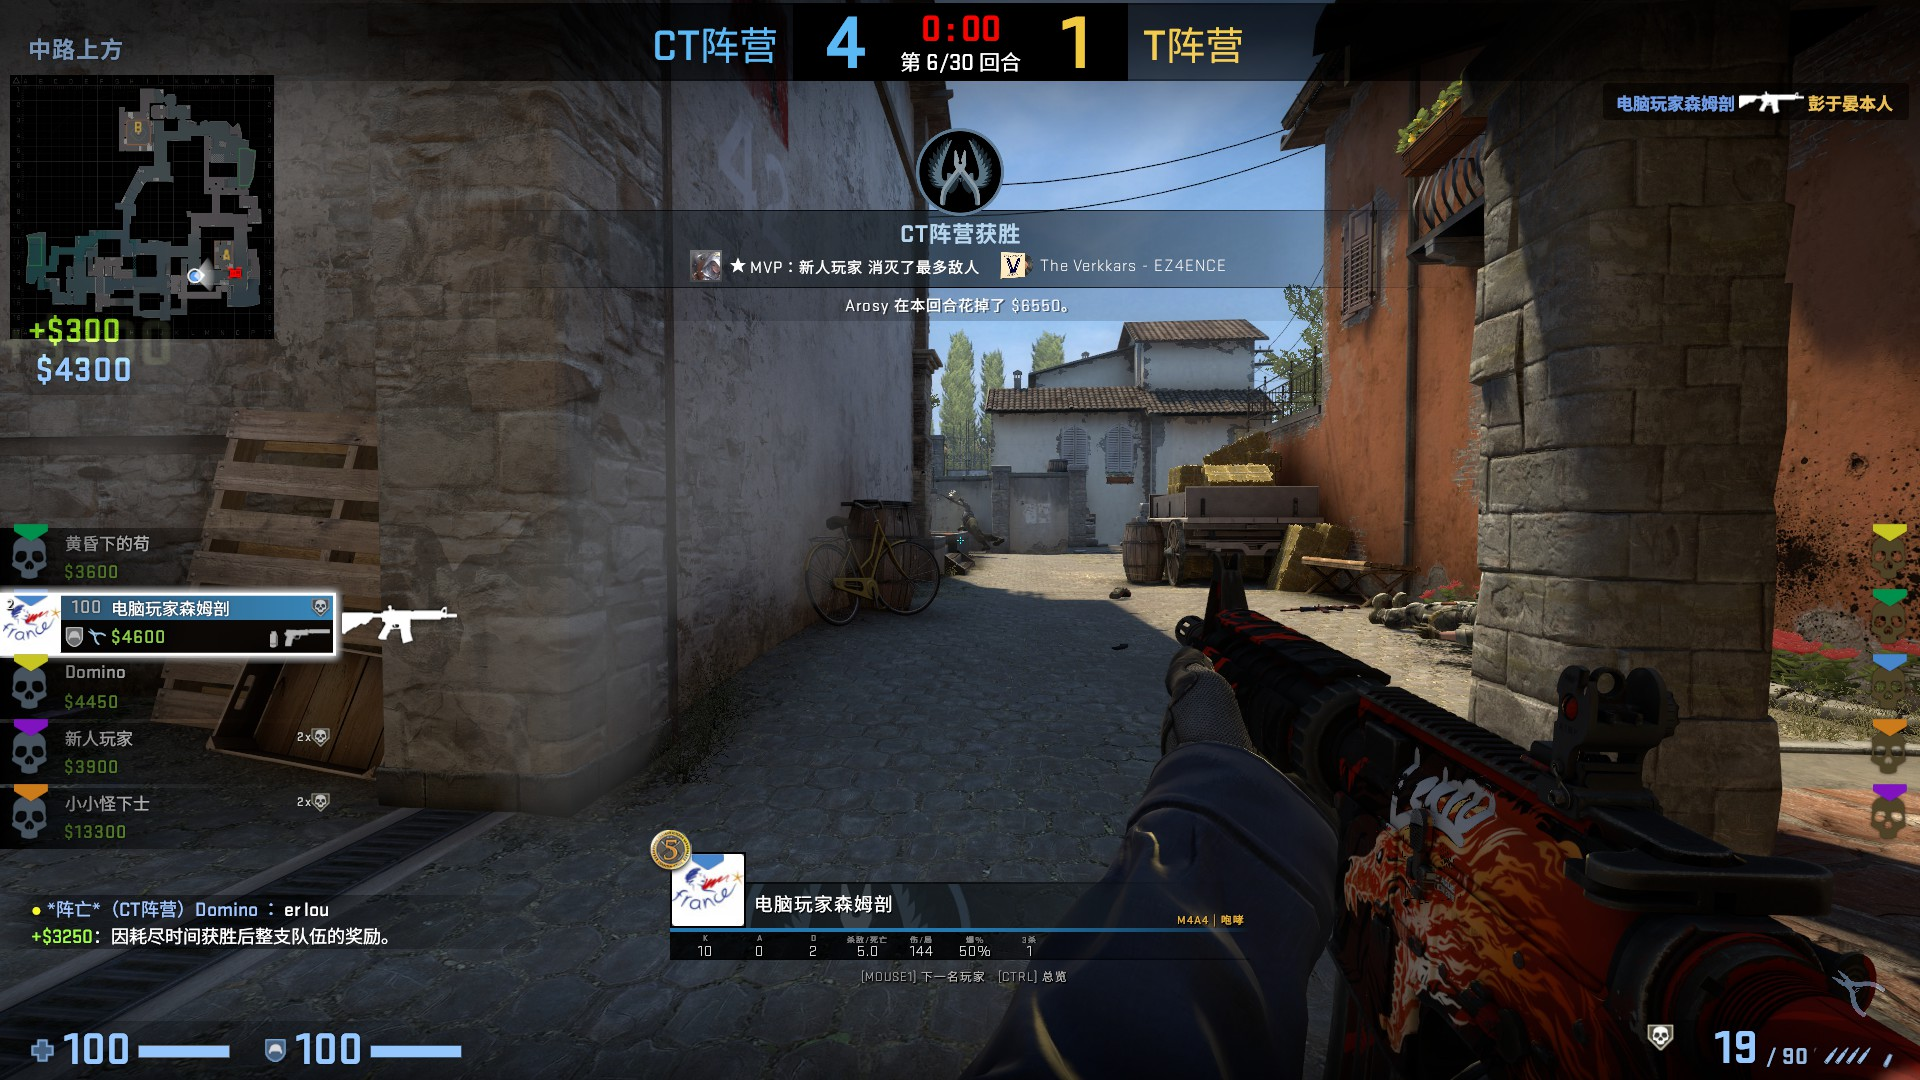head: (946, 487, 959, 500)
